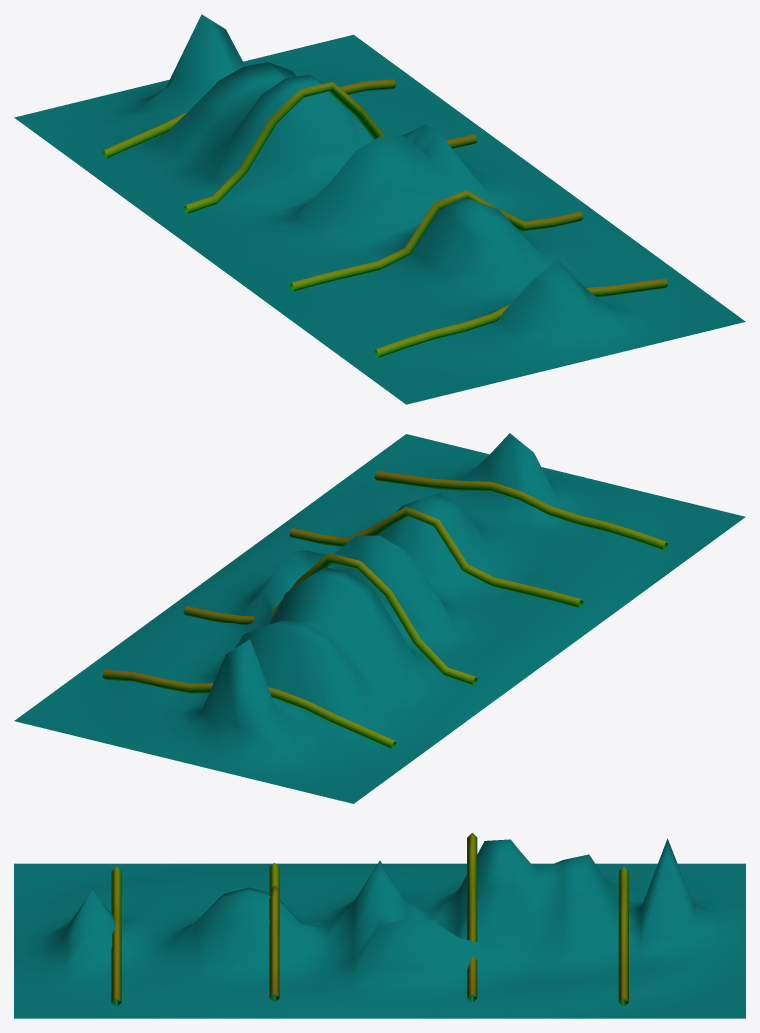
Rendered from shroud_bound_b.glb.
The picture shows the model from 3 angles, top to bottom: view 1: azimuth 30°, elevation 25°; view 2: azimuth 150°, elevation 25°; view 3: azimuth 270°, elevation 25°; orthographic projection. The views are drawn at different scales.
Parts seen in each view (by area): view 1: shroud_bound_b; view 2: shroud_bound_b; view 3: shroud_bound_b.
Part boxes in pixels (x1,y1,x2,y2): shroud_bound_b: (14,14,745,404); shroud_bound_b: (14,433,745,803); shroud_bound_b: (14,832,745,1018).
Size of what is drawn, in the model's own units: 1 by 0.2874 by 2.
